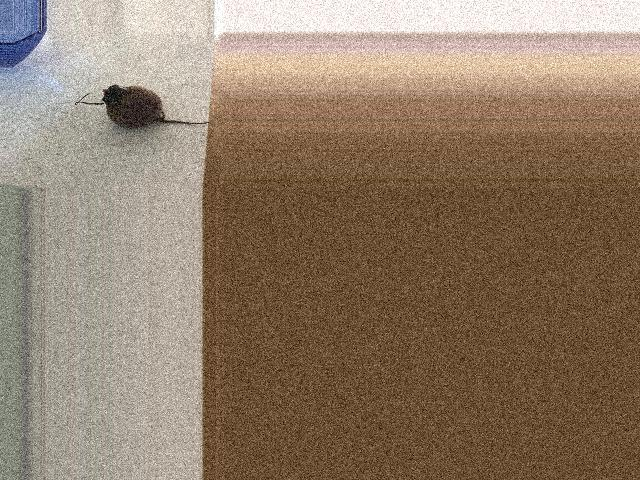beet: (75, 85, 213, 127)
